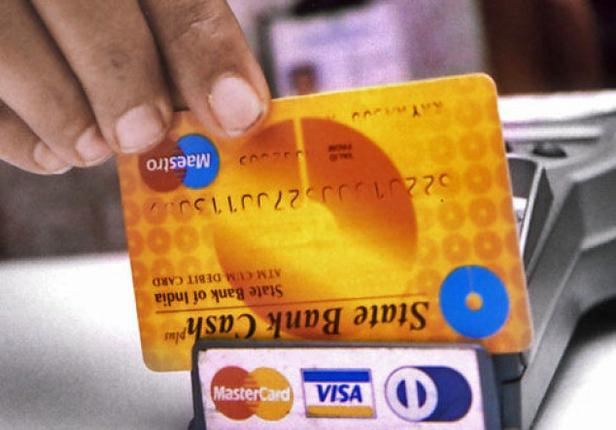tarjeta: (114, 71, 536, 375)
